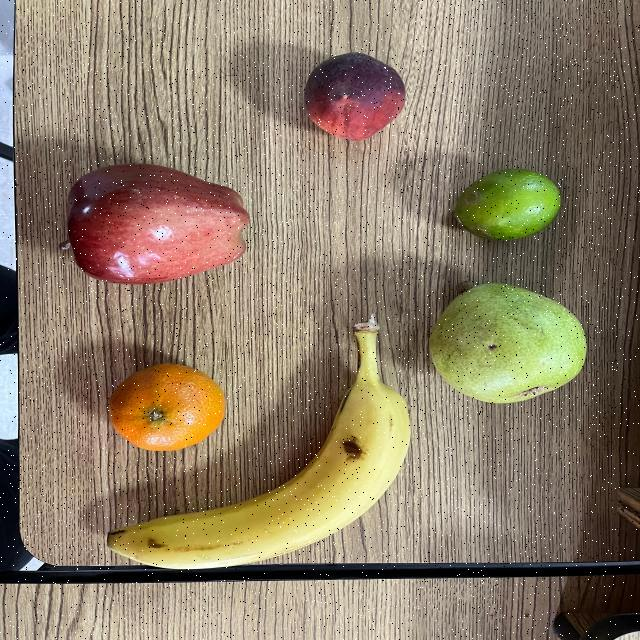Apel Merah: (57, 160, 254, 289)
Jeruk Mandarin: (103, 362, 230, 454)
Lemon: (447, 166, 567, 244)
Persik: (300, 51, 410, 145)
Pir: (426, 272, 594, 407)
Pisang: (98, 316, 414, 574)
